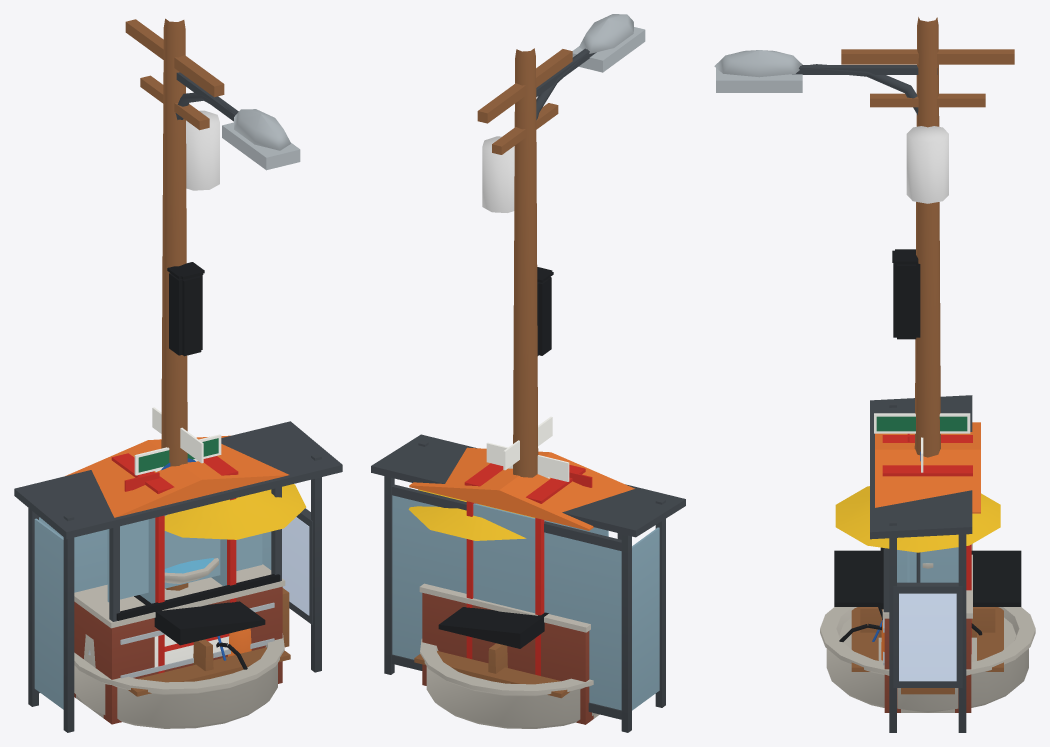
File: streetkit.6132bc35.glb
3 views of the same model, side by side, from view 1: azimuth 30°, elevation 25°; view 2: azimuth 150°, elevation 25°; view 3: azimuth 270°, elevation 25° (orthographic). The views are drawn at different scales.
Parts seen in each view (by area): view 1: busstop, kiosk, utility_pole, fountain, cart, dumpster, phone_booth, signal, picnic_table, streetlight_far, streetlight, sign_street; view 2: busstop, kiosk, utility_pole, phone_booth, fountain, dumpster, cart, picnic_table, streetlight, sign_street, streetlight_far, signal; view 3: busstop, utility_pole, fountain, kiosk, dumpster, phone_booth, cart, picnic_table, streetlight, streetlight_far, signal, sign_street.
Part boxes in pixels (x1=…): busstop: x1=14, y1=421, x2=342, y2=732; kiosk: x1=65, y1=435, x2=288, y2=724; utility_pole: x1=125, y1=18, x2=224, y2=590; fountain: x1=74, y1=558, x2=284, y2=728; cart: x1=88, y1=484, x2=306, y2=655; dumpster: x1=120, y1=595, x2=274, y2=678; phone_booth: x1=111, y1=453, x2=238, y2=673; signal: x1=167, y1=262, x2=204, y2=356; picnic_table: x1=128, y1=639, x2=290, y2=696; streetlight_far: x1=176, y1=72, x2=300, y2=170; streetlight: x1=175, y1=92, x2=290, y2=150; sign_street: x1=134, y1=407, x2=221, y2=475; busstop: x1=371, y1=434, x2=685, y2=732; kiosk: x1=409, y1=447, x2=634, y2=724; utility_pole: x1=477, y1=48, x2=572, y2=477; phone_booth: x1=464, y1=463, x2=585, y2=675; fountain: x1=420, y1=639, x2=596, y2=728; dumpster: x1=438, y1=607, x2=548, y2=648; cart: x1=408, y1=489, x2=534, y2=540; picnic_table: x1=414, y1=643, x2=569, y2=698; streetlight: x1=536, y1=14, x2=633, y2=120; sign_street: x1=486, y1=416, x2=569, y2=481; streetlight_far: x1=536, y1=27, x2=645, y2=96; signal: x1=537, y1=267, x2=553, y2=355; busstop: x1=870, y1=395, x2=972, y2=732; utility_pole: x1=841, y1=17, x2=1014, y2=457; fountain: x1=820, y1=563, x2=1035, y2=712; kiosk: x1=875, y1=422, x2=980, y2=712; dumpster: x1=834, y1=550, x2=1021, y2=665; phone_booth: x1=882, y1=435, x2=972, y2=653; cart: x1=835, y1=486, x2=1000, y2=582; picnic_table: x1=851, y1=607, x2=1003, y2=671; streetlight: x1=714, y1=50, x2=918, y2=115; streetlight_far: x1=716, y1=65, x2=937, y2=92; signal: x1=892, y1=249, x2=920, y2=339; sign_street: x1=874, y1=413, x2=970, y2=472.
Bounding box in the file's own units: 3.24 × 7.5 × 3.34.
Materials: 1 (1 with a texture image).
